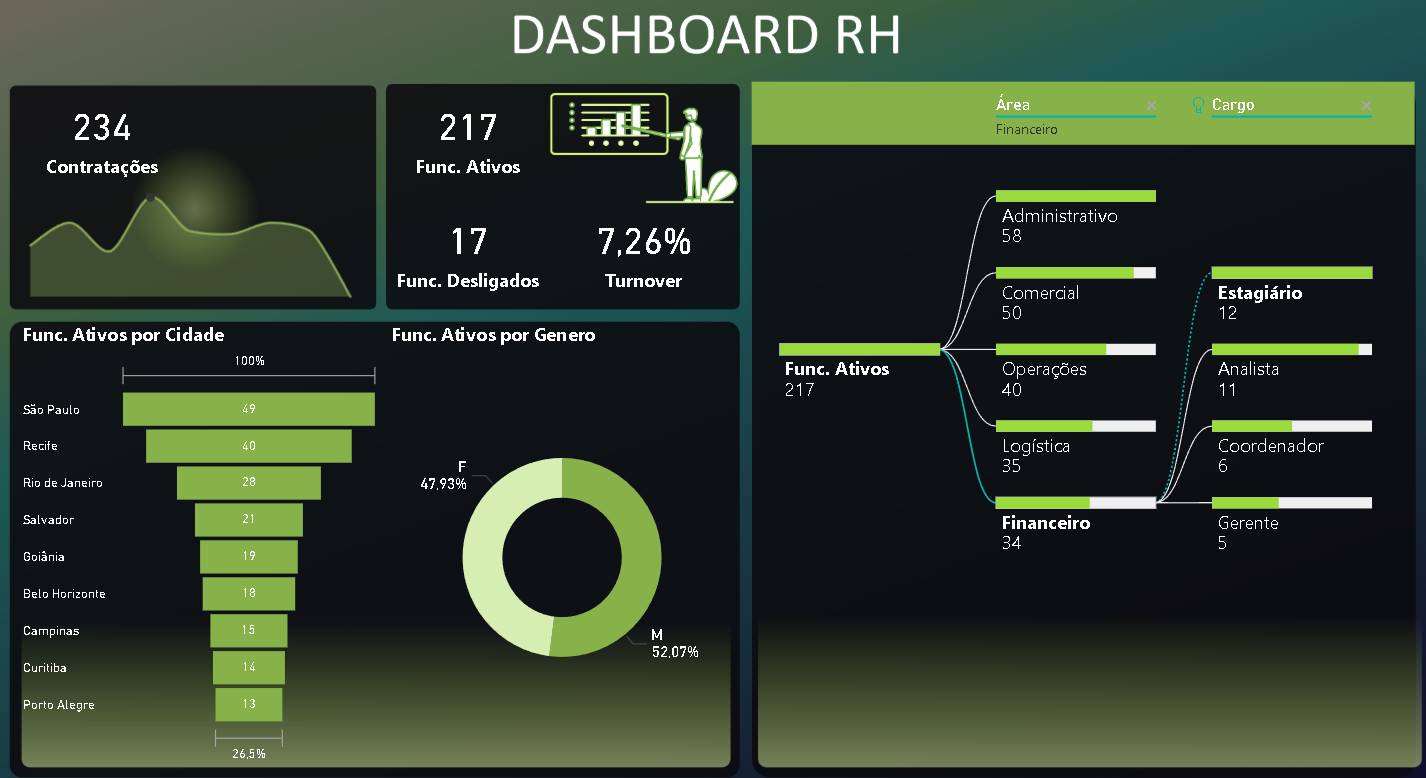

This screenshot's page, from the dashboard's own definition file:
{"tool":"powerbi","page":{"name":"Página 1","canvas":[1280,720],"ordinal":0},"visuals":[{"type":"card","fields":{"Values":["BaseFuncionarios.Contratações 2"]},"box":[19.5,87.8,162.3,92.3],"z":0},{"type":"PBI_CV_25997FEB_F466_44FA_B562_AC4063283C4C","fields":{"axis":["BaseFuncionarios.Data de Contratacao.Variation.Hierarquia de datas.Ano"],"measure":["BaseFuncionarios.Contratações"]},"box":[19.5,171.2,323.8,116.2],"z":1000},{"type":"card","fields":{"Values":["BaseFuncionarios.Func. Ativos"]},"box":[353,87.8,144.6,92.3],"z":2000},{"type":"card","fields":{"Values":["BaseFuncionarios.Func. Desligados"]},"box":[353,183.6,144.6,103.8],"z":3000},{"type":"card","fields":{"Values":["BaseFuncionarios.Turnover"]},"box":[497.6,183.6,167.7,103.8],"z":4000},{"type":"funnel","fields":{"Y":["BaseFuncionarios.Func. Ativos"],"Category":["BaseFuncionarios.Cidade"]},"box":[25.7,298.9,327.3,395.6],"z":5000},{"type":"donutChart","fields":{"Y":["BaseFuncionarios.Func. Ativos"],"Category":["BaseFuncionarios.Genero"]},"box":[353,298.9,312.2,396.5],"z":6000},{"type":"decompositionTreeVisual","fields":{"Analyze":["BaseFuncionarios.Func. Ativos"],"ExplainBy":["BaseFuncionarios.Área","BaseFuncionarios.Cargo"]},"box":[672.4,80.7,597.9,471.9],"z":7000}]}

Visuals, with their boxes on the page's 1280x720 design canvas (x1, y1, x2, y2). These are canvas units, not pixel positions in the 1426x778 screenshot, which may show the page scaled, cropped or inside an application window:
card - BaseFuncionarios.Contratações 2: x1=20 y1=88 x2=182 y2=180
PBI_CV_25997FEB_F466_44FA_B562_AC4063283C4C - BaseFuncionarios.Data de Contratacao.Variation.Hierarquia de datas.Ano x BaseFuncionarios.Contratações: x1=20 y1=171 x2=343 y2=287
card - BaseFuncionarios.Func. Ativos: x1=353 y1=88 x2=498 y2=180
card - BaseFuncionarios.Func. Desligados: x1=353 y1=184 x2=498 y2=287
card - BaseFuncionarios.Turnover: x1=498 y1=184 x2=665 y2=287
funnel - BaseFuncionarios.Func. Ativos x BaseFuncionarios.Cidade: x1=26 y1=299 x2=353 y2=694
donutChart - BaseFuncionarios.Func. Ativos x BaseFuncionarios.Genero: x1=353 y1=299 x2=665 y2=695
decompositionTreeVisual - BaseFuncionarios.Func. Ativos x BaseFuncionarios.Área: x1=672 y1=81 x2=1270 y2=553
